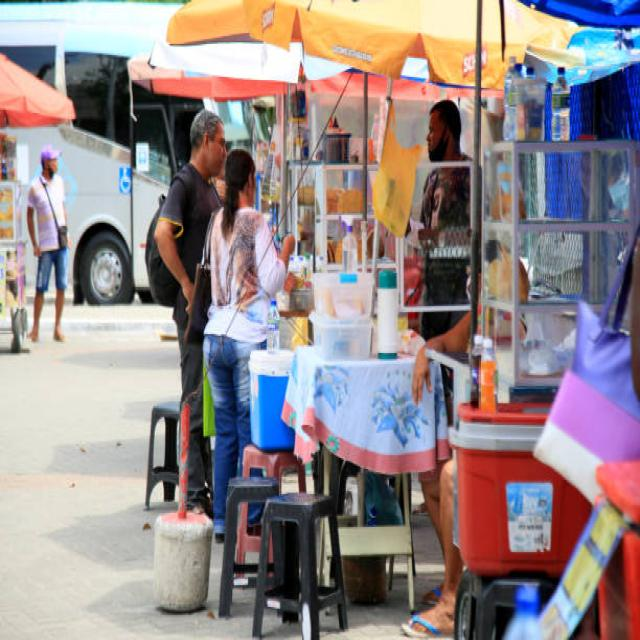Emperan: (167, 0, 578, 604)
